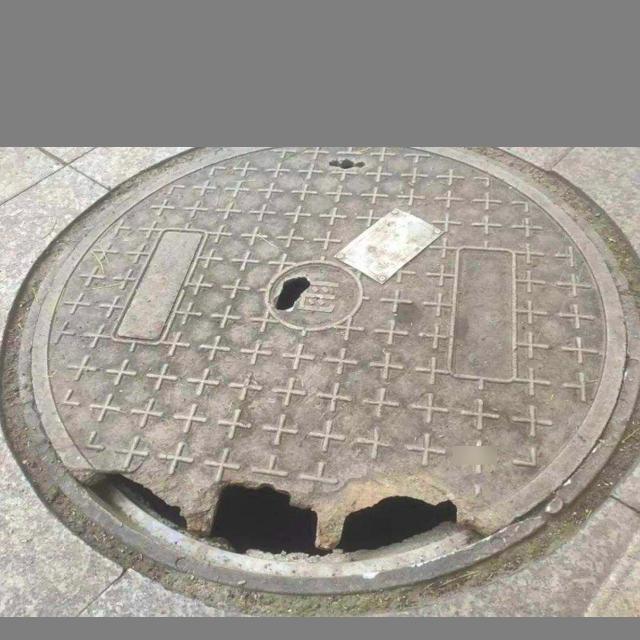broke: (18, 148, 640, 598)
